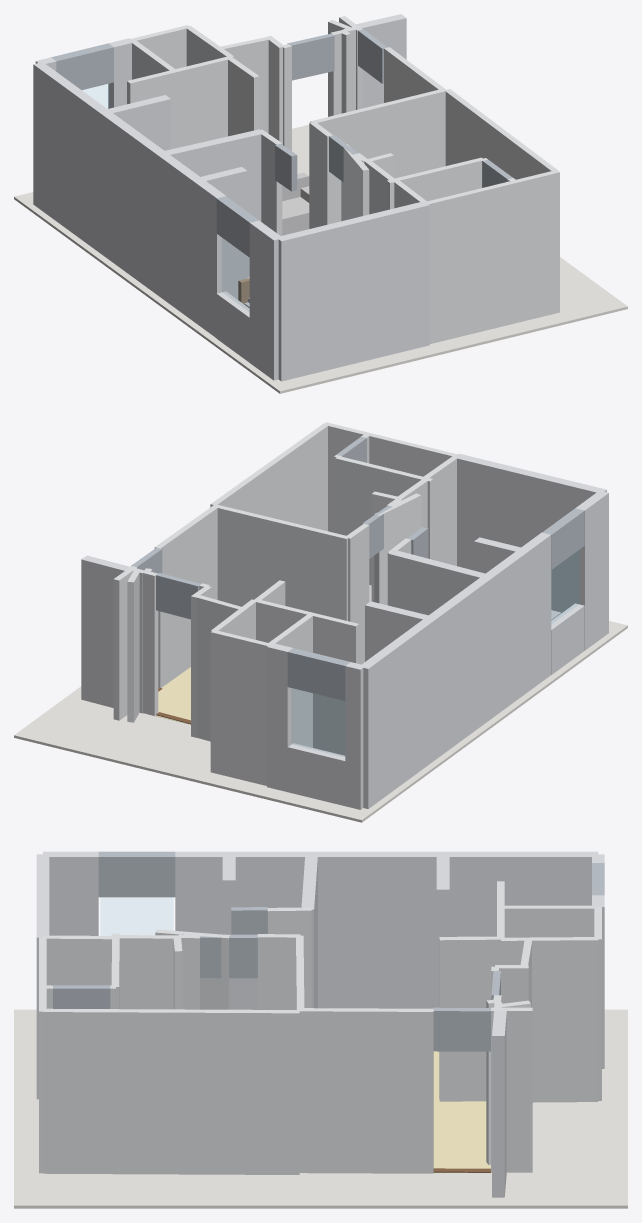
3 renders of one model, top to bottom at view 1: azimuth 30°, elevation 25°; view 2: azimuth 150°, elevation 25°; view 3: azimuth 270°, elevation 25°, orthographic. The views are drawn at different scales.
Parts seen in each view (by area): view 1: wall_post_016_final, wall_000_w1, wall_001_w2, floor_slab, wall_025_w26, wall_002_w3, wall_013_w14, wall_003_w4, wall_post_016_00, wall_021_w22, wall_post_019_final, wall_024_w25 (+27 smaller); view 2: wall_post_016_final, floor_slab, wall_025_w26, wall_000_w1, wall_015_w16, wall_003_w4, wall_post_004_00, wall_013_w14, wall_008_w9, wall_post_016_00, wall_021_w22, wall_024_w25 (+26 smaller); view 3: wall_003_w4, wall_post_016_final, floor_slab, wall_post_004_00, wall_012_w13, wall_011_w12, wall_005_w6, wall_post_016_00, wall_018_w19, room_finish_005_living_room, lintel_win_016_win1, wall_017_w18 (+22 smaller).
Part boxes in pixels (x1,y1,x2,y2): wall_post_016_final: [33, 62, 226, 337]; wall_000_w1: [276, 201, 429, 381]; wall_001_w2: [426, 181, 516, 343]; floor_slab: [14, 124, 627, 393]; wall_025_w26: [310, 88, 445, 223]; wall_002_w3: [514, 170, 559, 322]; wall_013_w14: [127, 56, 231, 149]; wall_003_w4: [444, 89, 558, 179]; wall_post_016_00: [249, 220, 282, 380]; wall_021_w22: [162, 129, 263, 277]; wall_post_019_final: [309, 121, 333, 228]; wall_024_w25: [393, 157, 482, 201]; wall_post_016_final: [362, 532, 551, 808]; floor_slab: [14, 621, 627, 822]; wall_025_w26: [214, 504, 347, 620]; wall_000_w1: [453, 453, 606, 613]; wall_015_w16: [210, 630, 270, 785]; wall_003_w4: [210, 423, 327, 531]; wall_post_004_00: [154, 505, 217, 687]; wall_013_w14: [256, 600, 359, 755]; wall_008_w9: [81, 555, 129, 707]; wall_post_016_00: [575, 491, 608, 650]; wall_021_w22: [388, 549, 485, 615]; wall_024_w25: [335, 456, 423, 585]; wall_003_w4: [43, 1008, 299, 1174]; wall_post_016_final: [175, 851, 598, 1009]; floor_slab: [14, 1009, 627, 1208]; wall_post_004_00: [299, 1008, 433, 1173]; wall_012_w13: [501, 937, 598, 1102]; wall_011_w12: [439, 936, 500, 1101]; wall_005_w6: [498, 1007, 532, 1172]; wall_post_016_00: [43, 851, 98, 935]; wall_018_w19: [115, 935, 178, 1009]; room_finish_005_living_room: [433, 1051, 491, 1172]; lintel_win_016_win1: [98, 851, 175, 897]; wall_017_w18: [43, 935, 111, 985].
Size of the model in its own units: 7.27 by 2.85 by 9.63.
